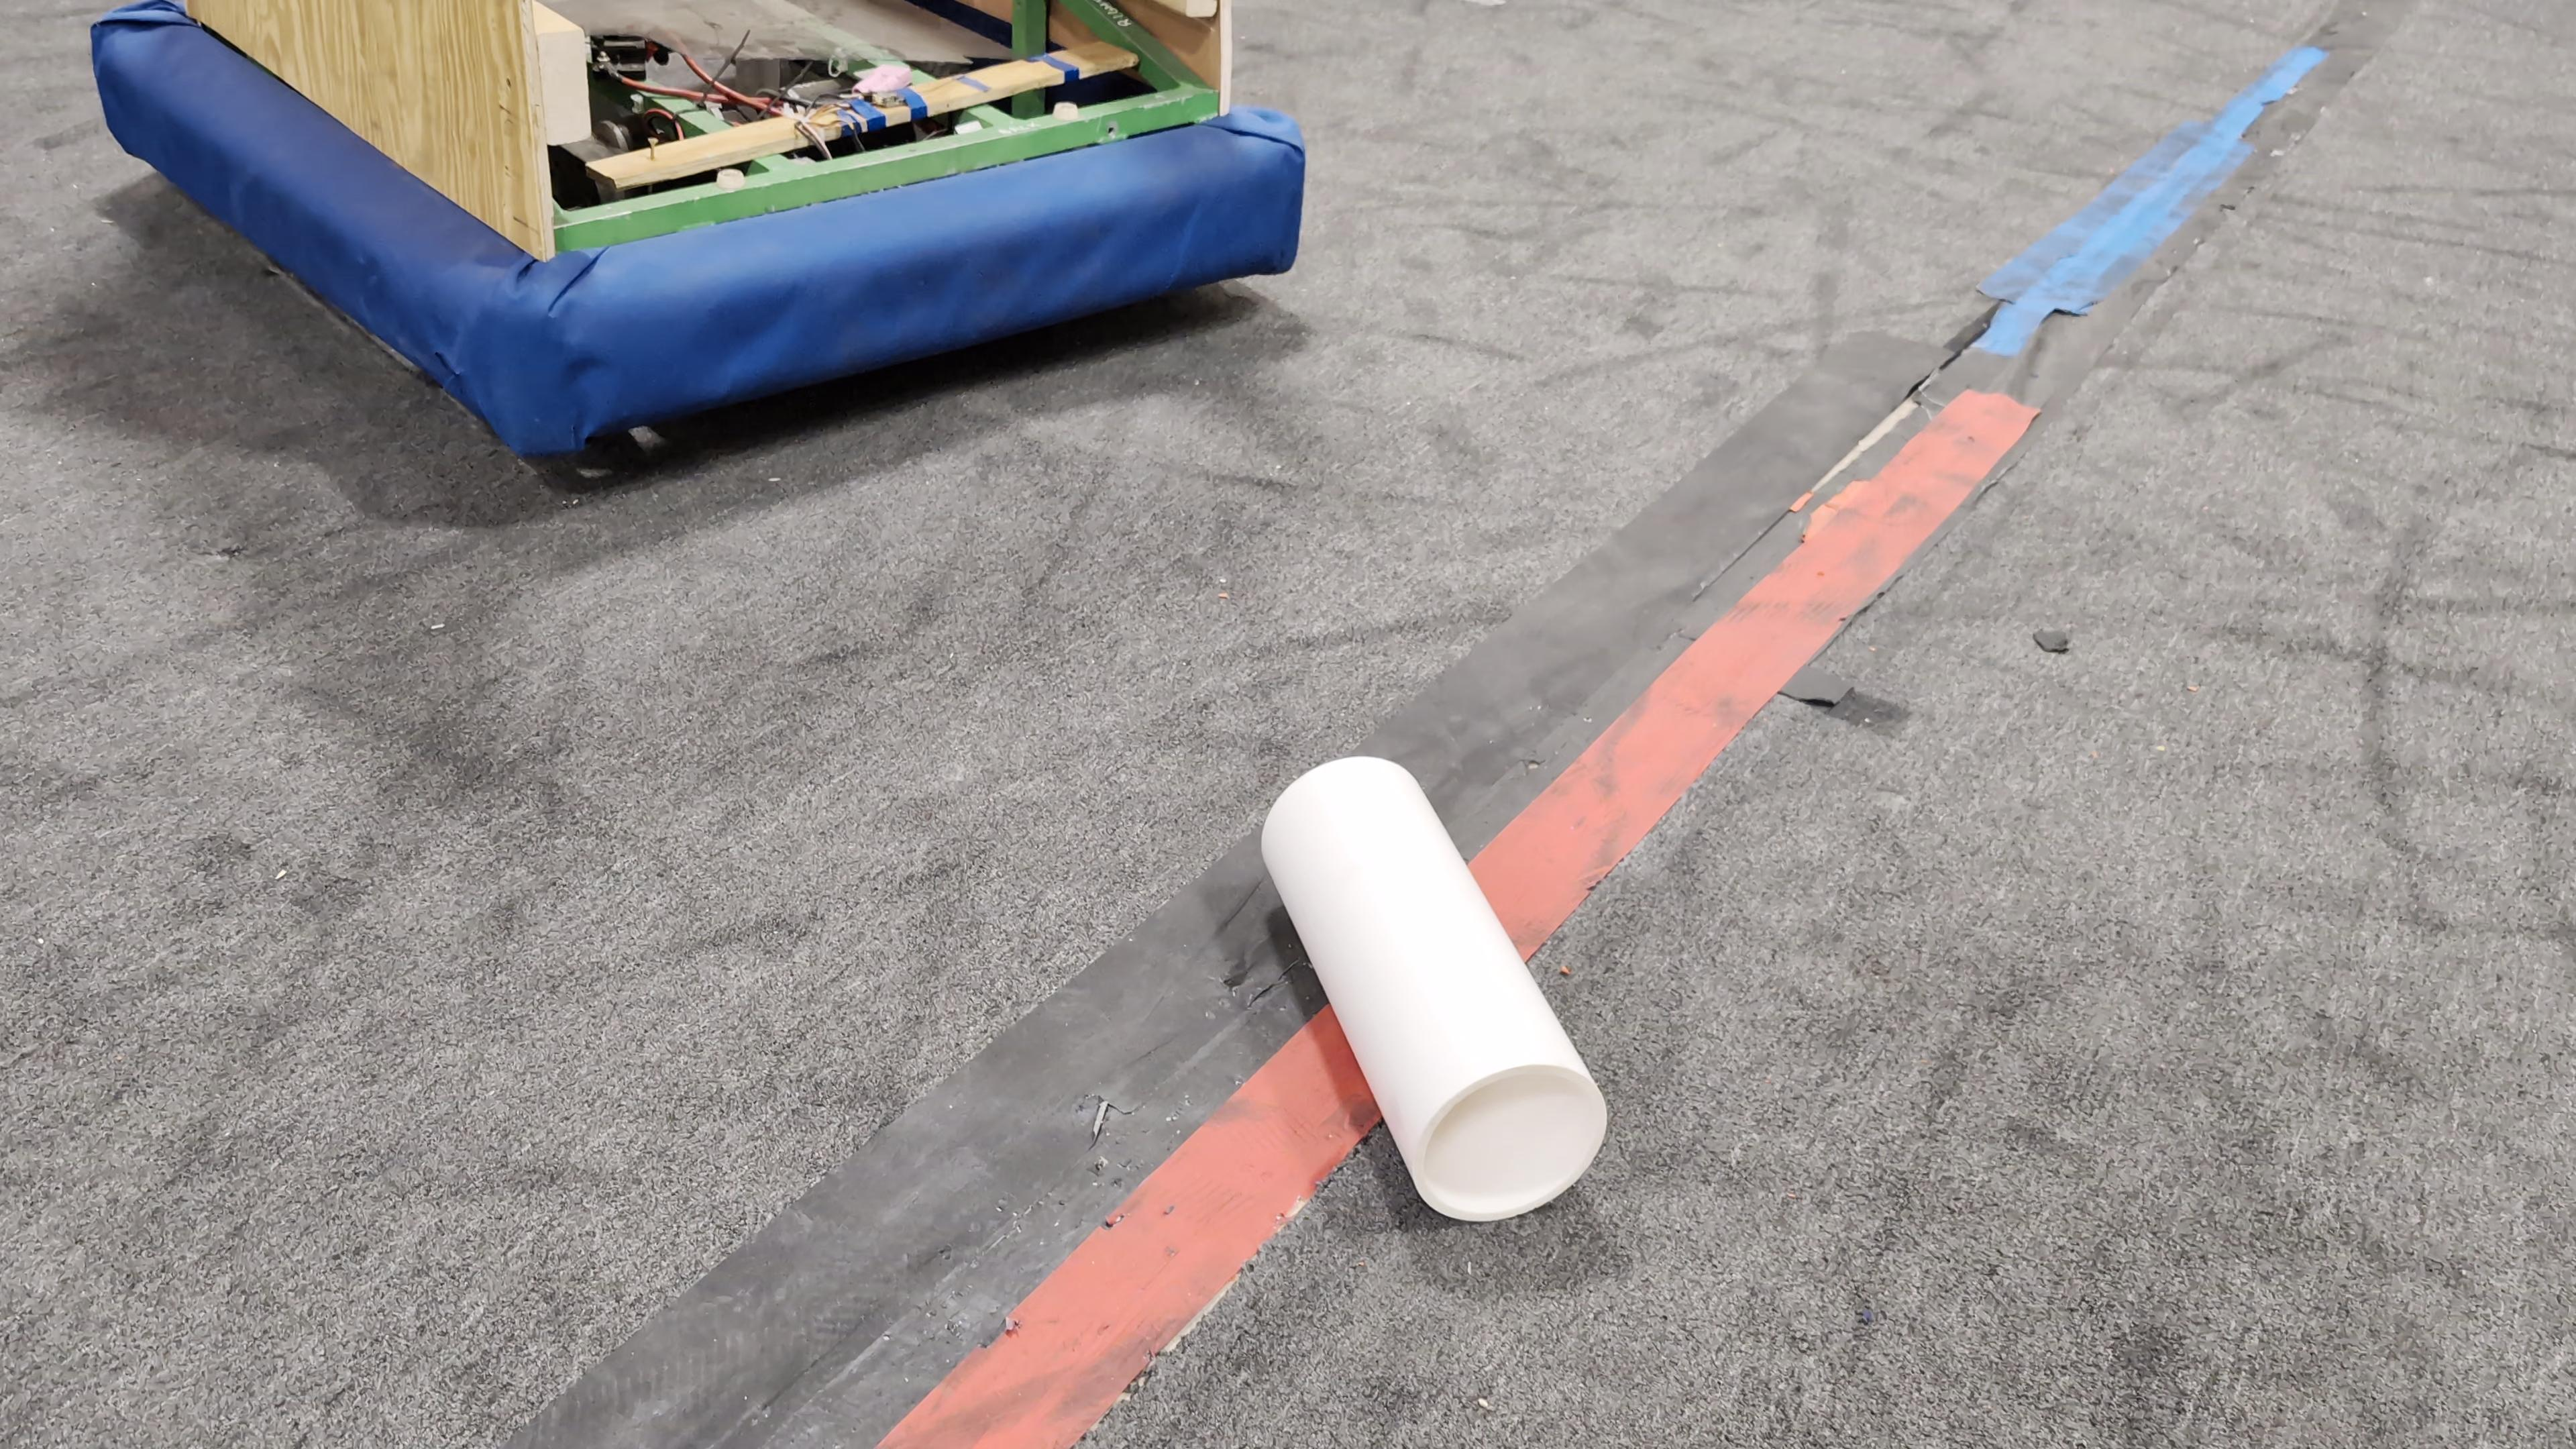coral: (1256, 750, 1610, 1219)
